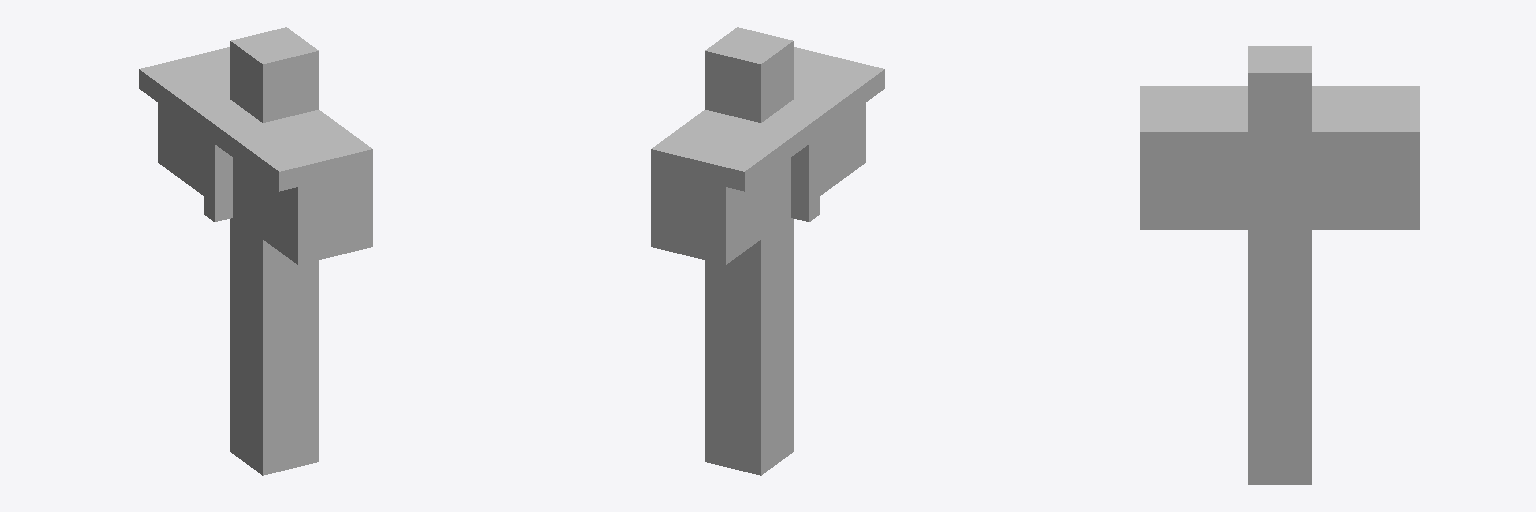
File: light.obj
The picture shows the model from 3 angles: view 1: azimuth 30°, elevation 25°; view 2: azimuth 150°, elevation 25°; view 3: azimuth 270°, elevation 25°; orthographic projection.
Parts seen in each view (by area): view 1: object 1; view 2: object 1; view 3: object 1.
Boxes of the visible parts, box(x1,y1,x2,y2) form: object 1: box(139, 27, 372, 475); object 1: box(651, 27, 884, 475); object 1: box(1140, 46, 1419, 484).
Size of the model in its own units: 0.5 by 2.1 by 1.3.